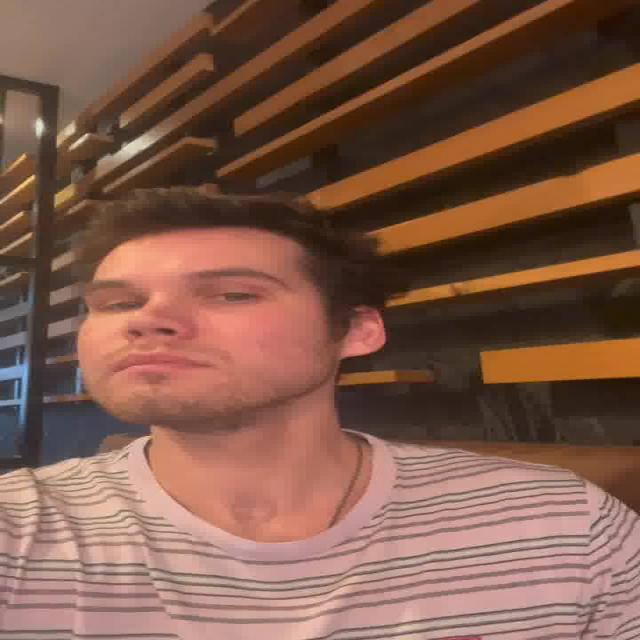earlobe: (340, 304, 386, 358)
